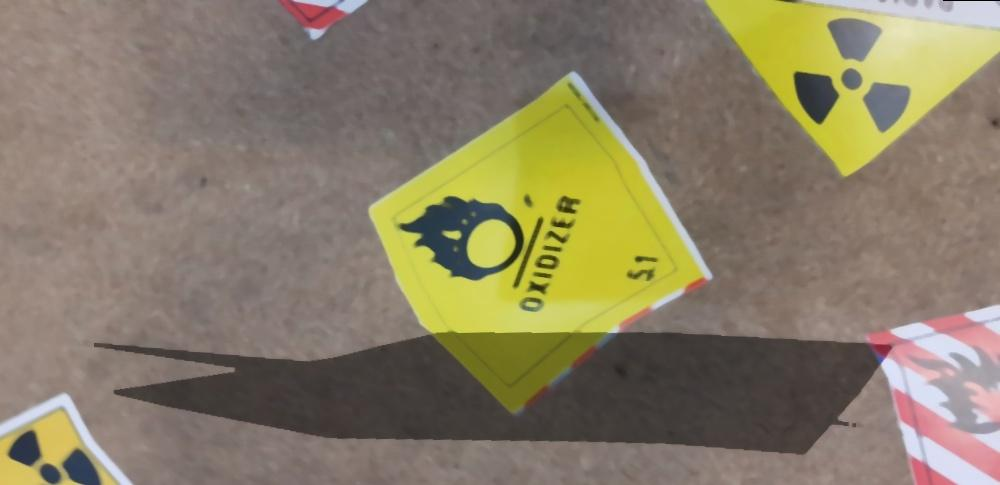oxidizer: (368, 63, 725, 426)
